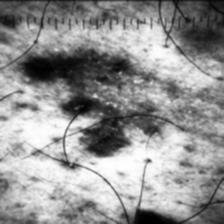Potentially Malignant Skin Tumors: (28, 49, 188, 158), (132, 210, 184, 224)
